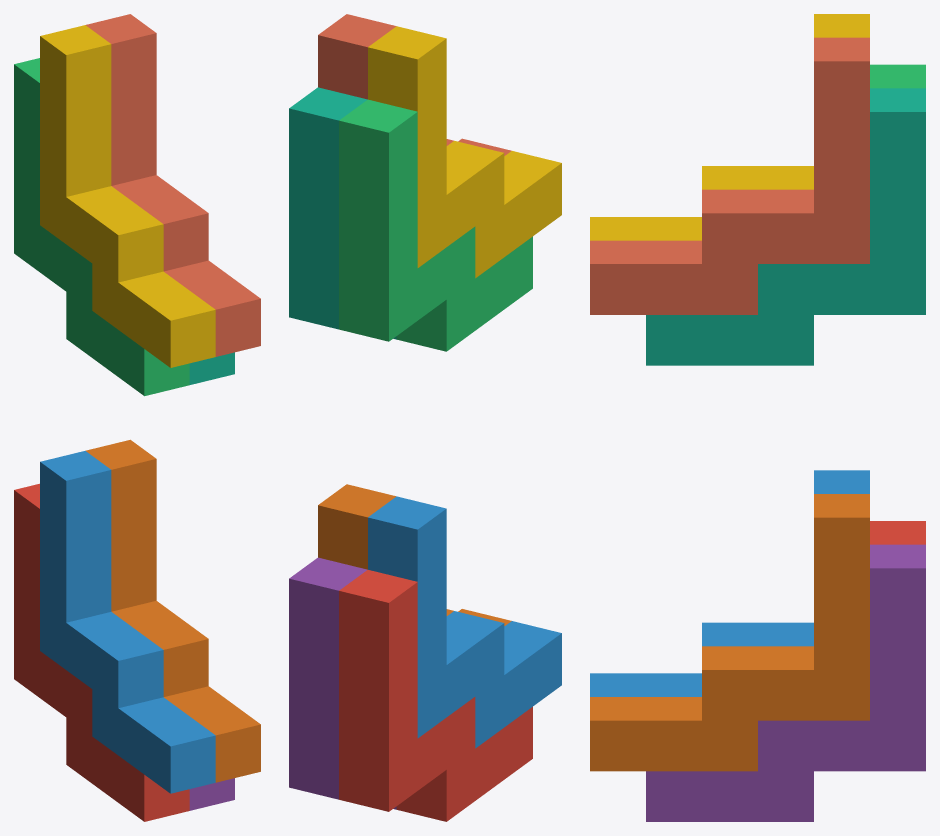
The model's file is tiling.obj.
3 views of the same model, side by side, from view 1: azimuth 30°, elevation 25°; view 2: azimuth 150°, elevation 25°; view 3: azimuth 270°, elevation 25° (orthographic). The views are drawn at different scales.
Visible parts, largest first — view 1: copy_1_domain_4, copy_1_domain_2, copy_1_domain_6, copy_1_domain_8, copy_1_domain_3, copy_1_domain_1, copy_1_domain_7, copy_1_domain_5; view 2: copy_1_domain_3, copy_1_domain_1, copy_1_domain_4, copy_1_domain_2, copy_1_domain_7, copy_1_domain_5, copy_1_domain_8, copy_1_domain_6; view 3: copy_1_domain_6, copy_1_domain_8, copy_1_domain_5, copy_1_domain_7, copy_1_domain_2, copy_1_domain_4, copy_1_domain_3, copy_1_domain_1.
Part boxes in pixels (bbox=[...]): copy_1_domain_4: bbox=[40, 25, 215, 367]; copy_1_domain_2: bbox=[40, 451, 215, 793]; copy_1_domain_6: bbox=[85, 439, 260, 782]; copy_1_domain_8: bbox=[85, 14, 260, 356]; copy_1_domain_3: bbox=[14, 58, 189, 396]; copy_1_domain_1: bbox=[14, 483, 189, 821]; copy_1_domain_7: bbox=[189, 352, 234, 384]; copy_1_domain_5: bbox=[189, 778, 234, 810]; copy_1_domain_3: bbox=[339, 99, 532, 351]; copy_1_domain_1: bbox=[339, 570, 532, 821]; copy_1_domain_4: bbox=[368, 26, 561, 278]; copy_1_domain_2: bbox=[368, 496, 561, 748]; copy_1_domain_7: bbox=[289, 87, 396, 339]; copy_1_domain_5: bbox=[289, 557, 396, 809]; copy_1_domain_8: bbox=[318, 14, 511, 155]; copy_1_domain_6: bbox=[318, 484, 511, 625]; copy_1_domain_6: bbox=[590, 494, 869, 771]; copy_1_domain_8: bbox=[590, 37, 869, 314]; copy_1_domain_5: bbox=[646, 544, 925, 821]; copy_1_domain_7: bbox=[646, 88, 925, 365]; copy_1_domain_2: bbox=[590, 470, 869, 696]; copy_1_domain_4: bbox=[590, 14, 869, 240]; copy_1_domain_3: bbox=[870, 64, 925, 88]; copy_1_domain_1: bbox=[870, 521, 925, 544].
Bounding box in the file's own units: 2 × 15 × 6.
